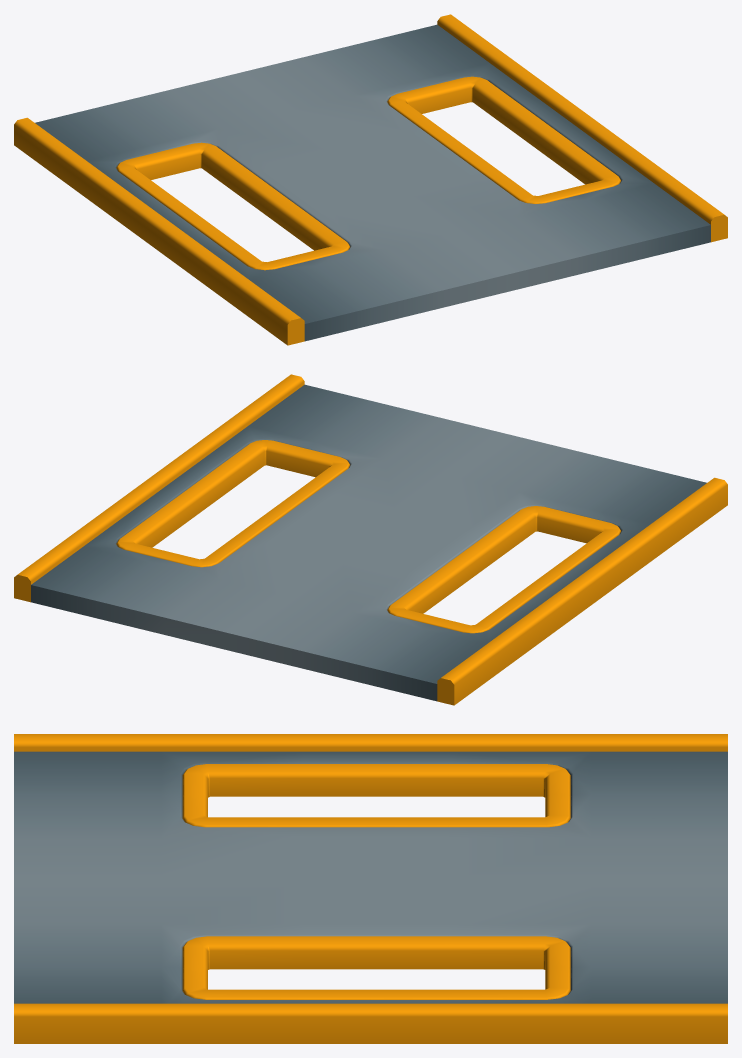
File: platform_006.fbx
The picture shows the model from 3 angles, top to bottom: view 1: azimuth 30°, elevation 25°; view 2: azimuth 150°, elevation 25°; view 3: azimuth 270°, elevation 25°; orthographic projection. The views are drawn at different scales.
Parts seen in each view (by area): view 1: platform_006; view 2: platform_006; view 3: platform_006.
Boxes of the visible parts, left/top/right/bottom form: platform_006: left=14, top=14, right=727, bottom=345; platform_006: left=14, top=374, right=727, bottom=705; platform_006: left=14, top=734, right=727, bottom=1043.
Bounding box in the file's own units: 1300 × 1400 × 68.62.
